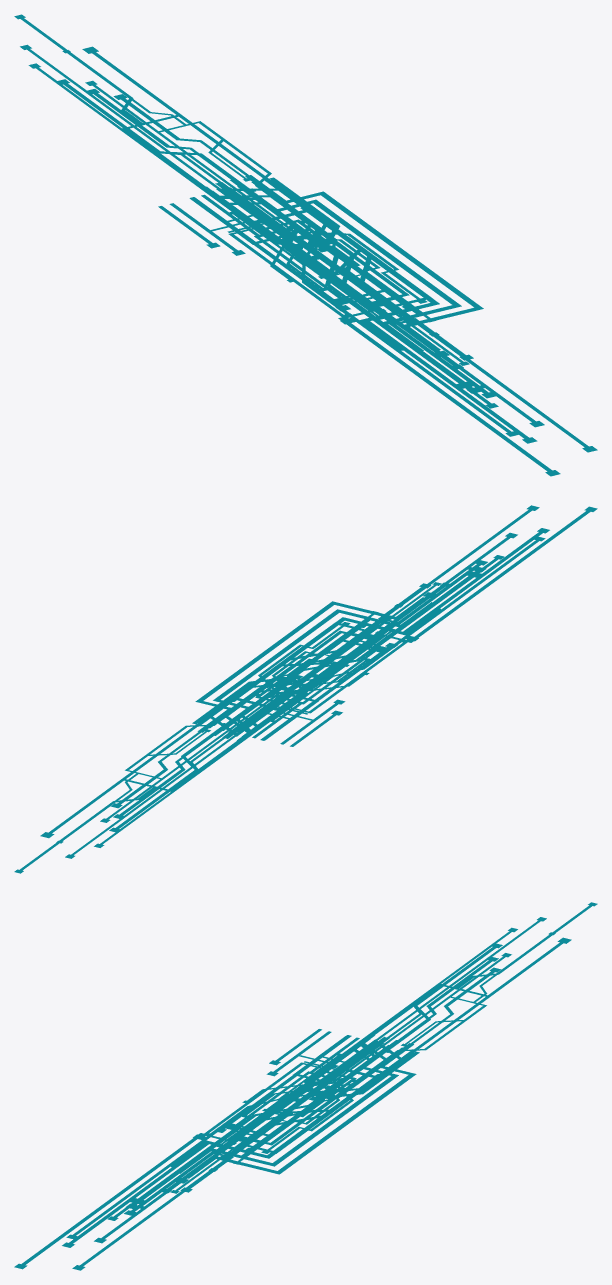
Rendered from Circuit_mesh.fbx.
3 views of the same model, one above another, from view 1: azimuth 30°, elevation 25°; view 2: azimuth 150°, elevation 25°; view 3: azimuth 330°, elevation 25° (orthographic). The views are drawn at different scales.
Parts seen in each view (by area): view 1: Circuit_H, Circuit_F, Circuit_I, Circuit_J, Circuit_E, Circuit_C, Circuit_G, Circuit_D, Circuit_B, Circuit_A; view 2: Circuit_H, Circuit_F, Circuit_I, Circuit_J, Circuit_E, Circuit_G, Circuit_C, Circuit_D, Circuit_B, Circuit_A; view 3: Circuit_H, Circuit_F, Circuit_I, Circuit_J, Circuit_E, Circuit_G, Circuit_C, Circuit_D, Circuit_B, Circuit_A.
Part boxes in pixels (left/top/right/bottom): Circuit_H: left=158, top=175, right=483, bottom=350; Circuit_F: left=190, top=177, right=560, bottom=476; Circuit_I: left=20, top=44, right=439, bottom=336; Circuit_J: left=14, top=14, right=473, bottom=360; Circuit_E: left=58, top=79, right=485, bottom=389; Circuit_C: left=206, top=178, right=473, bottom=388; Circuit_G: left=191, top=188, right=597, bottom=452; Circuit_D: left=205, top=180, right=518, bottom=436; Circuit_B: left=228, top=187, right=382, bottom=324; Circuit_A: left=216, top=187, right=385, bottom=319; Circuit_H: left=195, top=597, right=441, bottom=746; Circuit_F: left=192, top=506, right=597, bottom=740; Circuit_I: left=56, top=604, right=402, bottom=858; Circuit_J: left=14, top=583, right=431, bottom=873; Circuit_E: left=109, top=567, right=476, bottom=832; Circuit_G: left=210, top=505, right=539, bottom=739; Circuit_C: left=196, top=571, right=481, bottom=740; Circuit_D: left=200, top=536, right=545, bottom=739; Circuit_B: left=233, top=634, right=418, bottom=730; Circuit_A: left=228, top=628, right=405, bottom=736; Circuit_H: left=170, top=1029, right=416, bottom=1178; Circuit_F: left=14, top=1035, right=419, bottom=1269; Circuit_I: left=208, top=917, right=555, bottom=1171; Circuit_J: left=180, top=902, right=597, bottom=1192; Circuit_E: left=135, top=943, right=502, bottom=1208; Circuit_G: left=72, top=1035, right=400, bottom=1270; Circuit_C: left=130, top=1035, right=415, bottom=1204; Circuit_D: left=66, top=1036, right=413, bottom=1239; Circuit_B: left=193, top=1043, right=389, bottom=1141; Circuit_A: left=206, top=1039, right=383, bottom=1147.
Size of the model in its own units: 6.38 by 0.0147 by 46.9.
